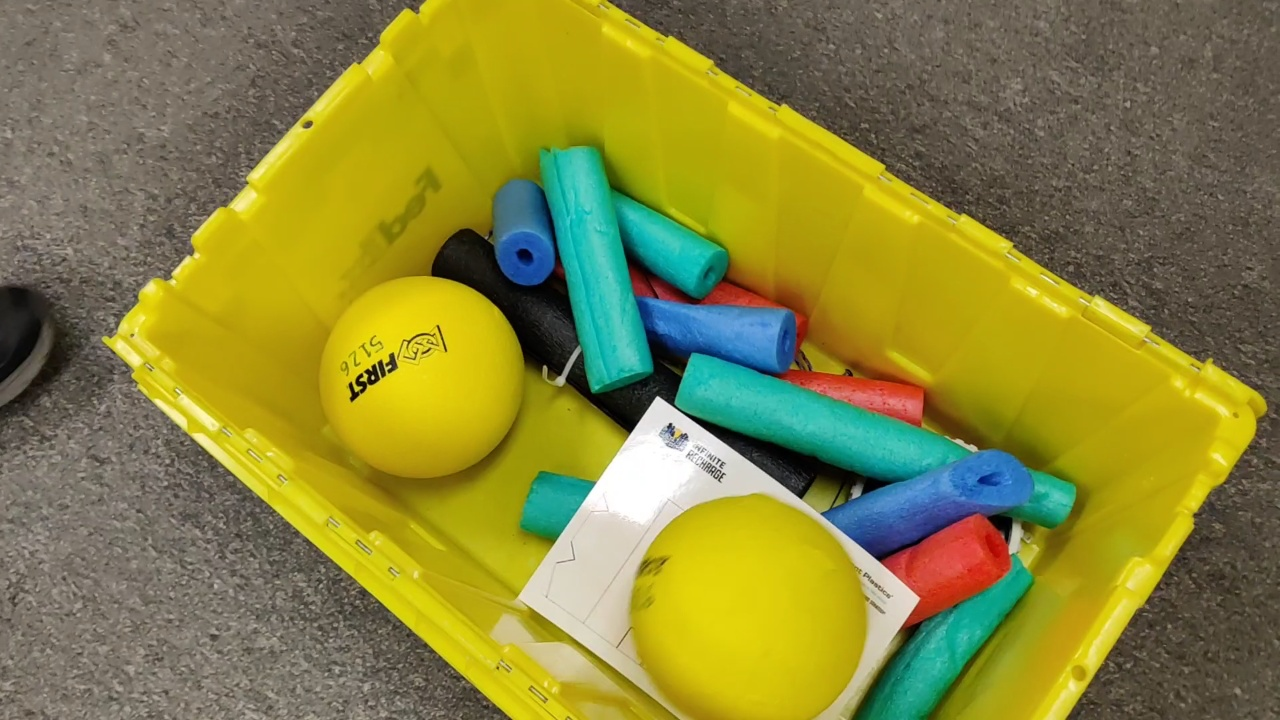Ball: (629, 495, 872, 719), (317, 274, 524, 481)
